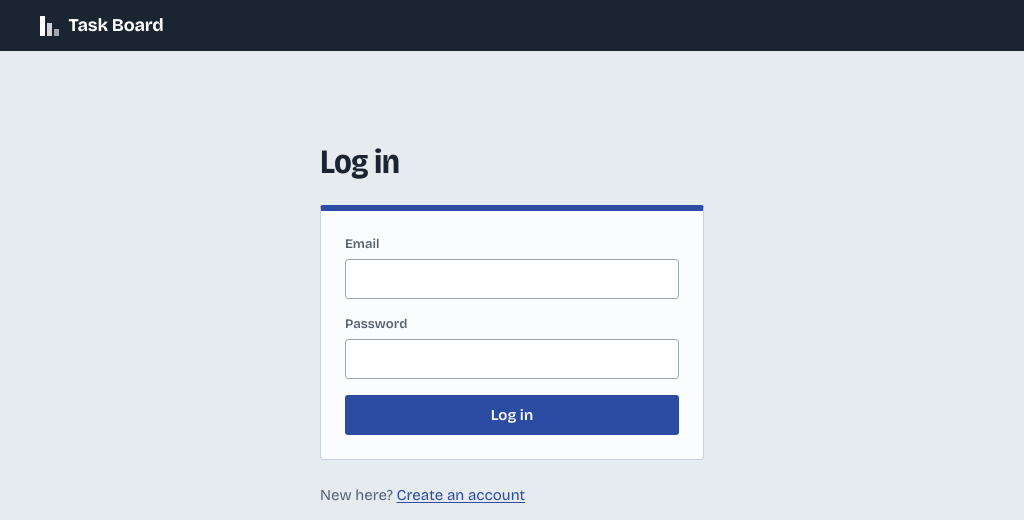
Test: login form › logs in and lands on the boards page
The width and height of the screenshot is (1024, 520).
Type "  Alice@Example.com " into the field labelled "Email".
click(512, 279); type("  Alice@Example.com ")  # box 345,259 -> 679,299
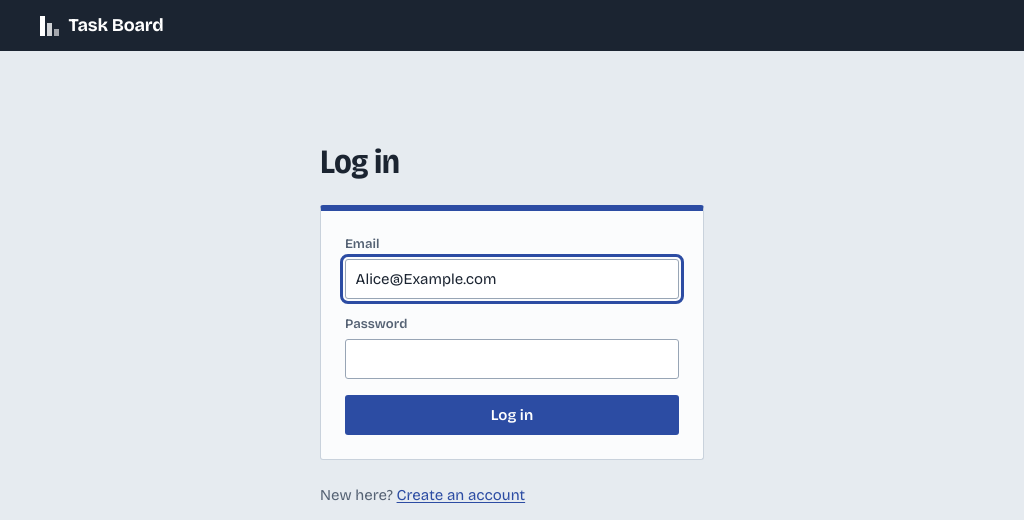
Type "correct-horse-battery" into the password field labelled "Password".
click(512, 359); type("correct-horse-battery")  # box 345,339 -> 679,379
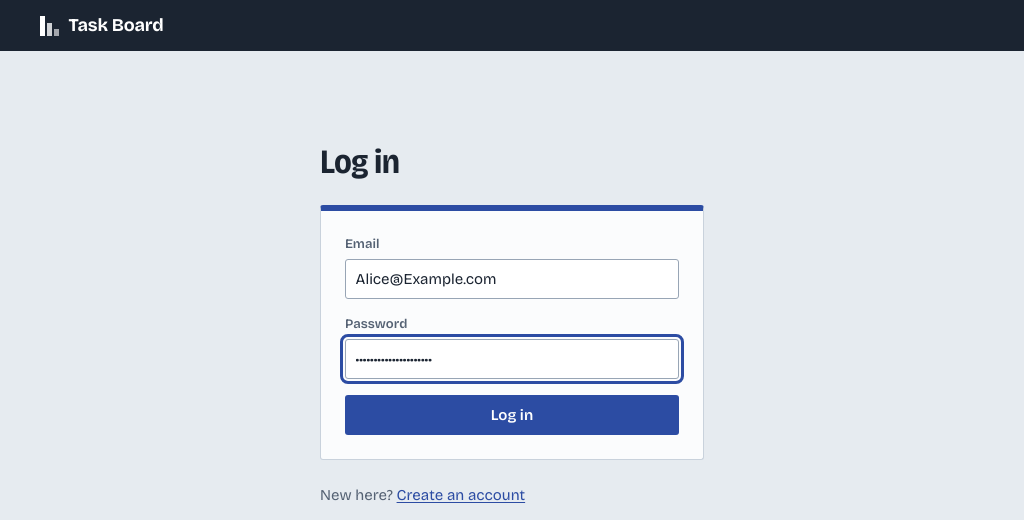
Click the button "Log in".
click(512, 415)  # box 345,395 -> 679,435
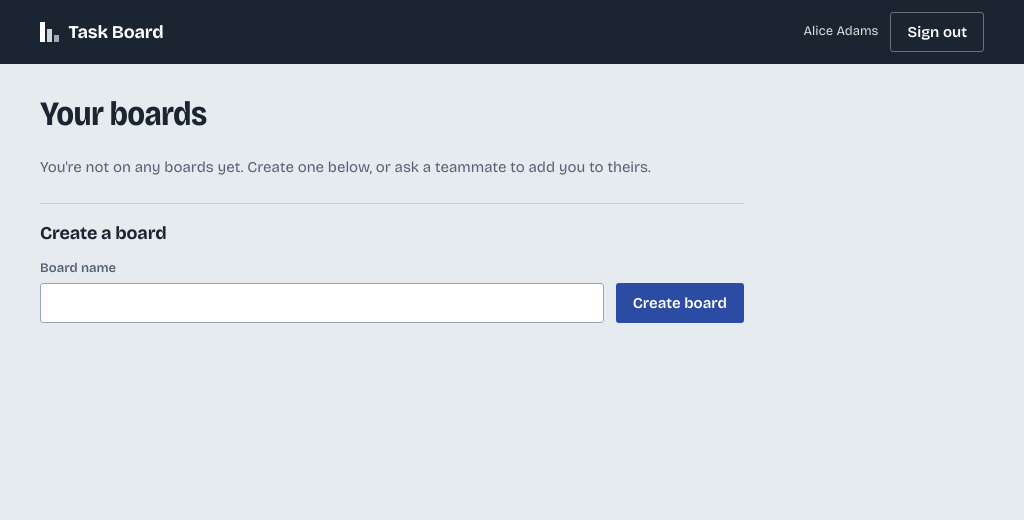
Expected: the heading "Your boards" is shown, 40,93 -> 206,134
